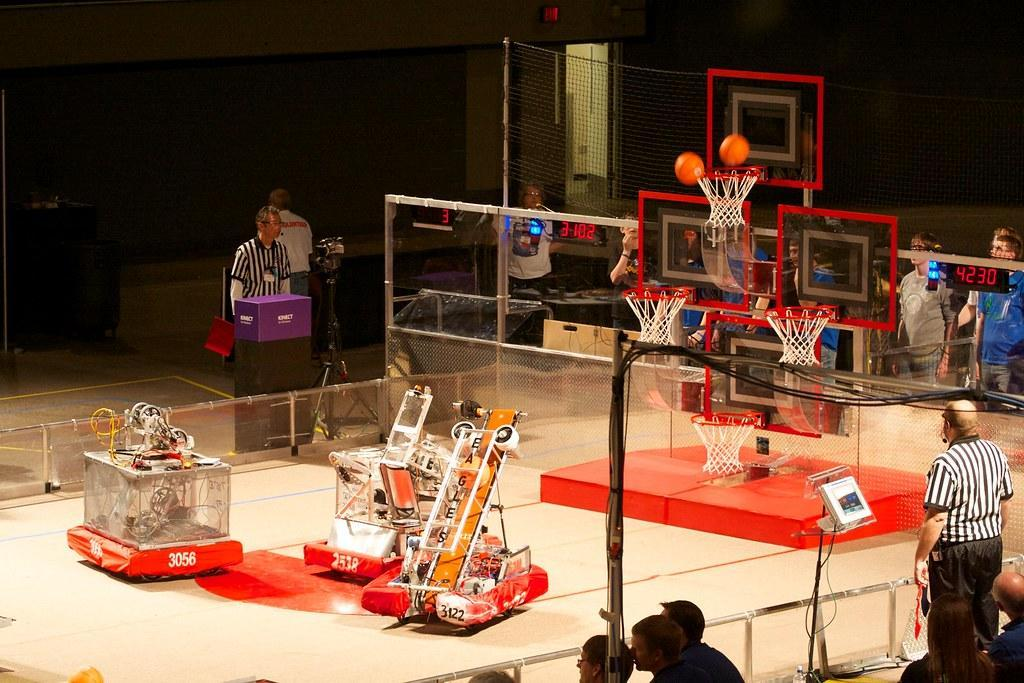robot: (355, 396, 556, 643), (62, 394, 250, 596), (300, 379, 470, 585)
